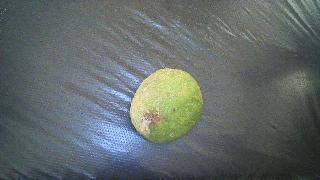DESECHO: (130, 68, 203, 143)
